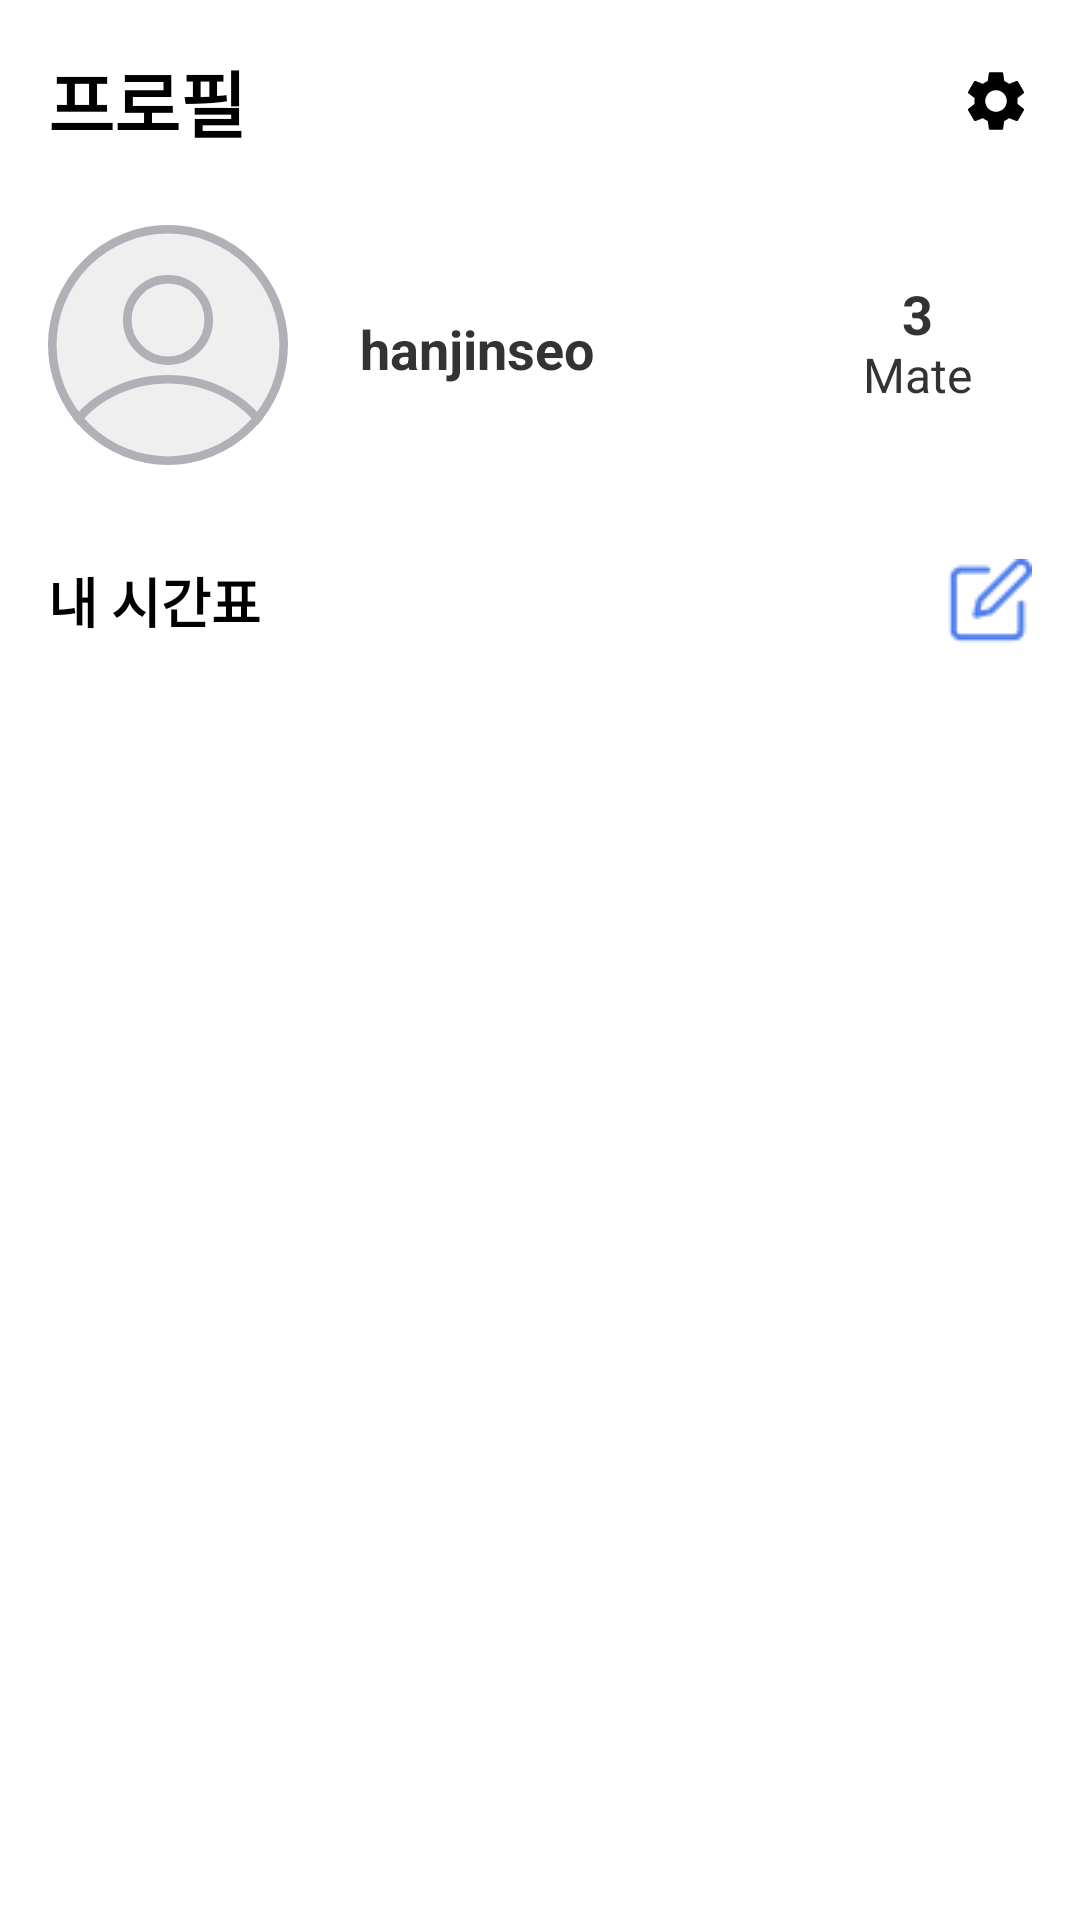

Where to tap for icons on this 1080×1920 app screen, as (x=x, y=y):
profile: (x=168, y=345)
settings: (x=996, y=101)
시간표 수정: (x=991, y=600)
